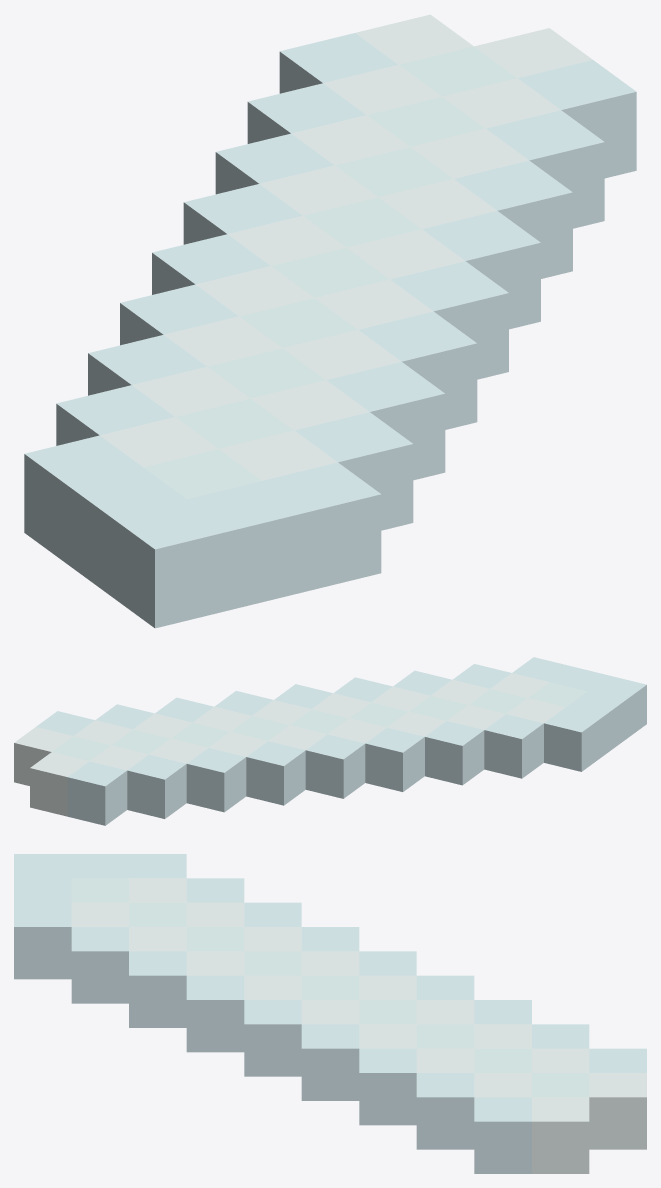
File: ChargedSword.obj
3 views of the same model, one above another, from view 1: azimuth 30°, elevation 25°; view 2: azimuth 150°, elevation 25°; view 3: azimuth 270°, elevation 25° (orthographic). The views are drawn at different scales.
Size of the model in its own units: 1.1 by 0.1 by 1.1.
Materials: 1 (1 with a texture image).
